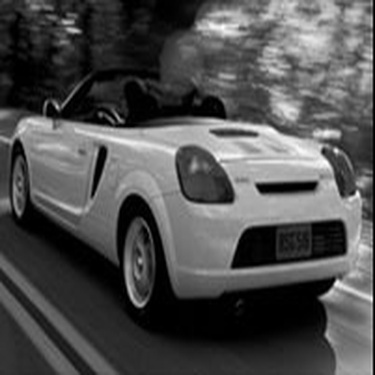car: (13, 48, 372, 314)
